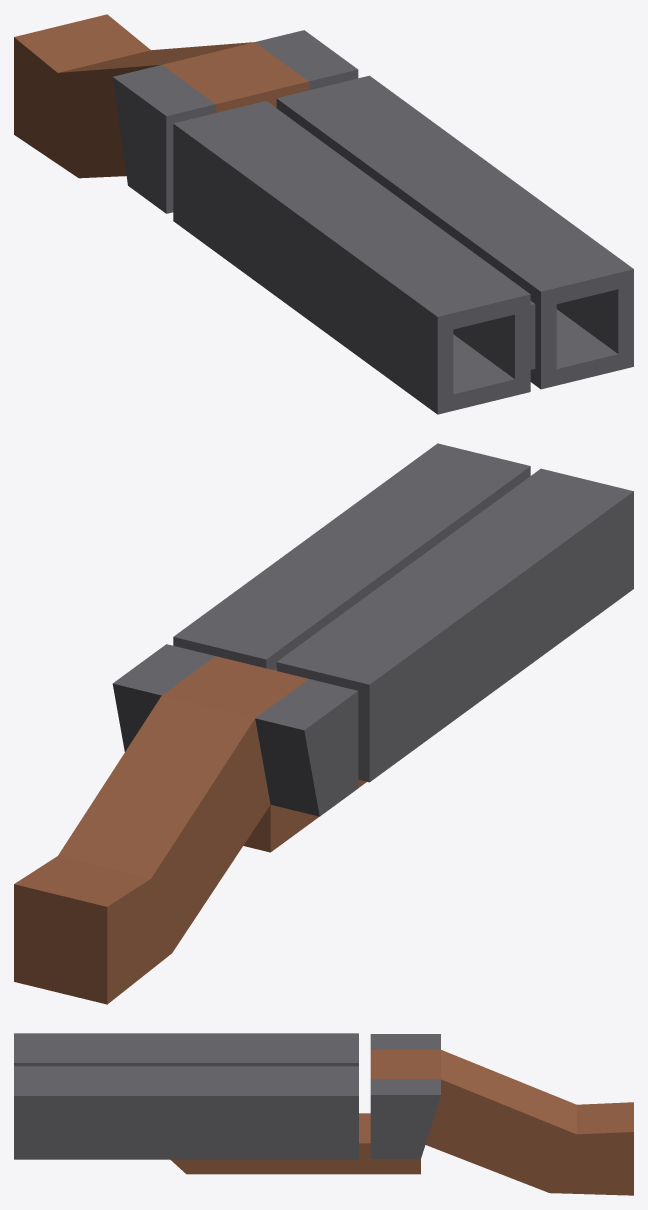
The model's file is DoubleBarrel.fbx.
3 renders of one model, top to bottom at view 1: azimuth 30°, elevation 25°; view 2: azimuth 150°, elevation 25°; view 3: azimuth 270°, elevation 25°, orthographic. The views are drawn at different scales.
Visible parts, largest first — view 1: Cube; view 2: Cube; view 3: Cube.
Boxes of the visible parts, <box> form: Cube: <box>14,14,633,414</box>; Cube: <box>14,443,633,1004</box>; Cube: <box>14,1033,633,1195</box>.
Size of the model in its own units: 52.92 by 45.87 by 222.
